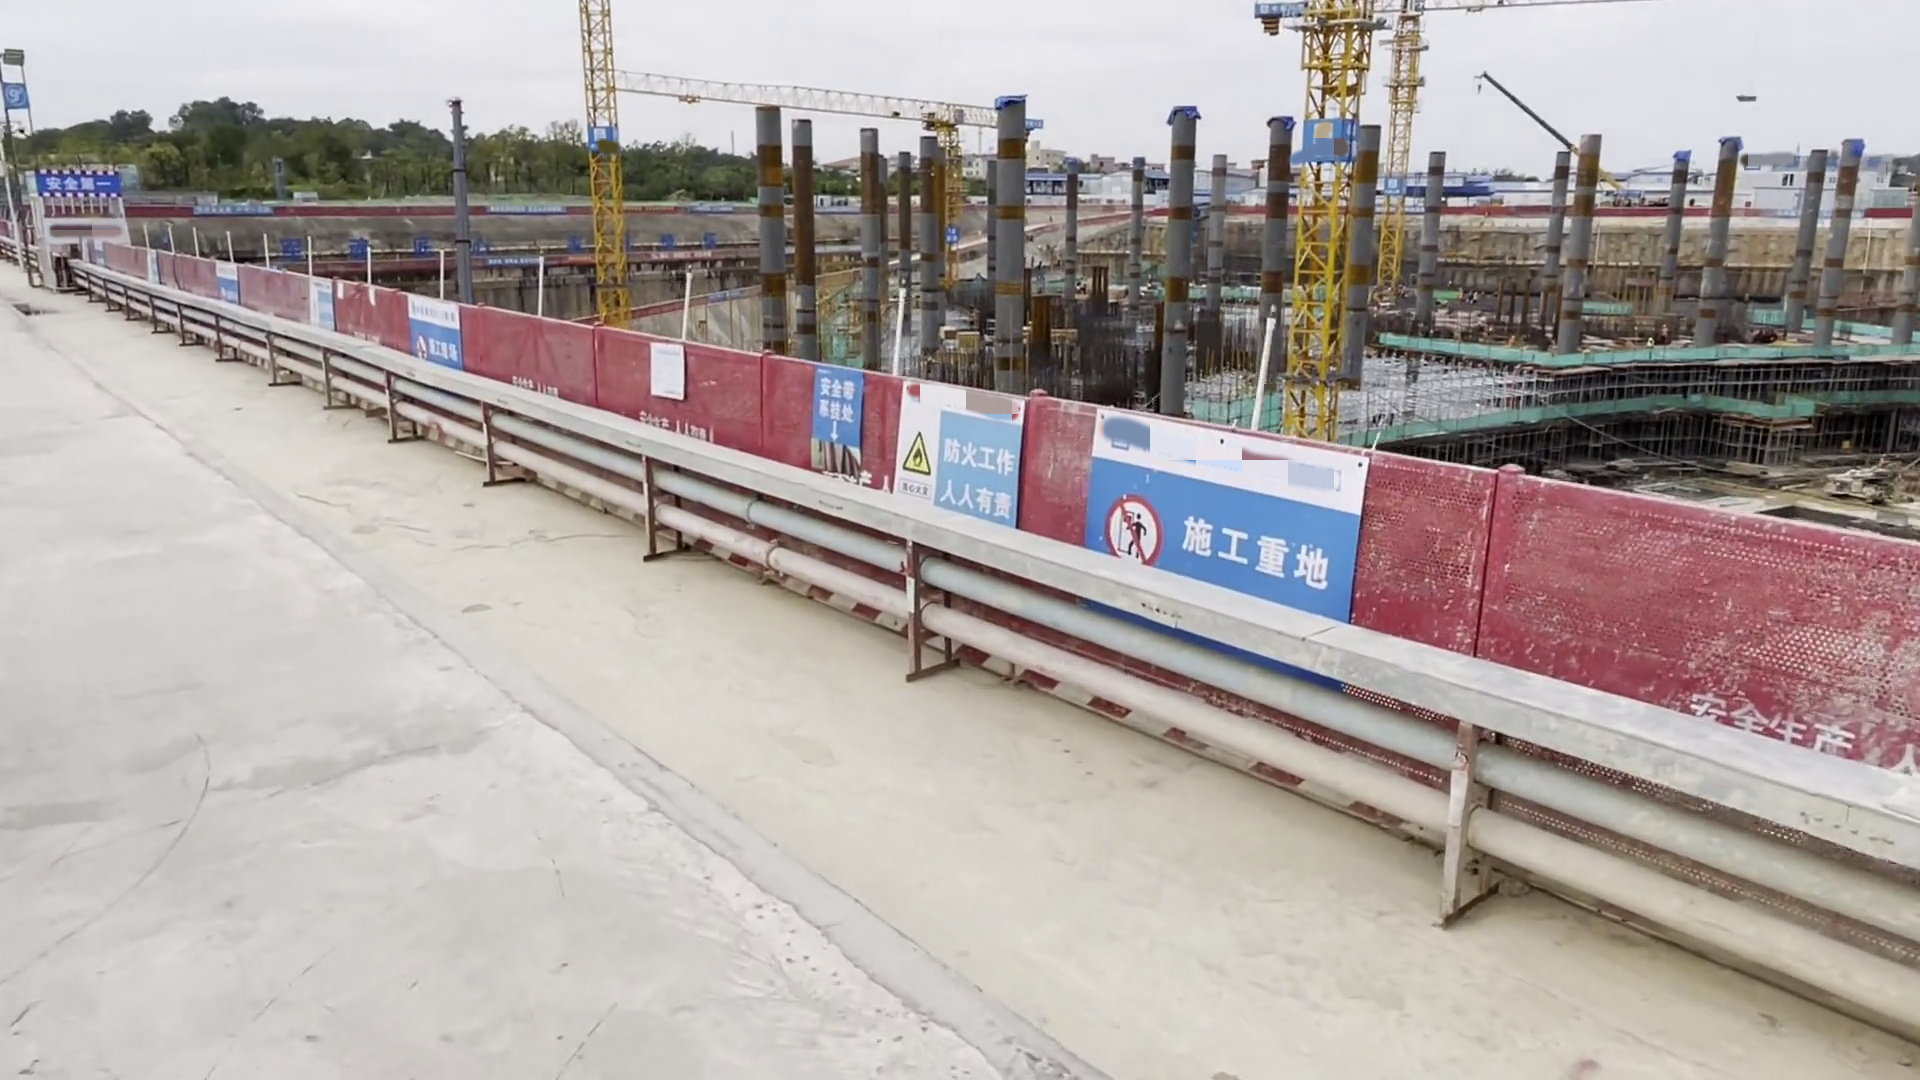fence: (1492, 475, 1910, 785), (1029, 388, 1482, 654), (406, 302, 766, 467), (767, 358, 1023, 532), (222, 269, 415, 353), (106, 247, 217, 299)
person: (1659, 326, 1669, 344), (1646, 336, 1654, 358), (1509, 334, 1518, 347)
slogan: (1083, 408, 1371, 639), (895, 377, 1023, 525), (809, 363, 867, 445), (405, 300, 471, 368), (21, 165, 117, 204), (1303, 121, 1356, 158), (302, 278, 334, 325), (195, 205, 269, 218), (488, 202, 563, 214), (219, 265, 242, 299), (588, 130, 619, 154), (1255, 3, 1316, 14), (646, 250, 711, 258), (486, 258, 533, 265), (689, 205, 735, 211), (624, 204, 680, 210), (1385, 176, 1399, 195)
